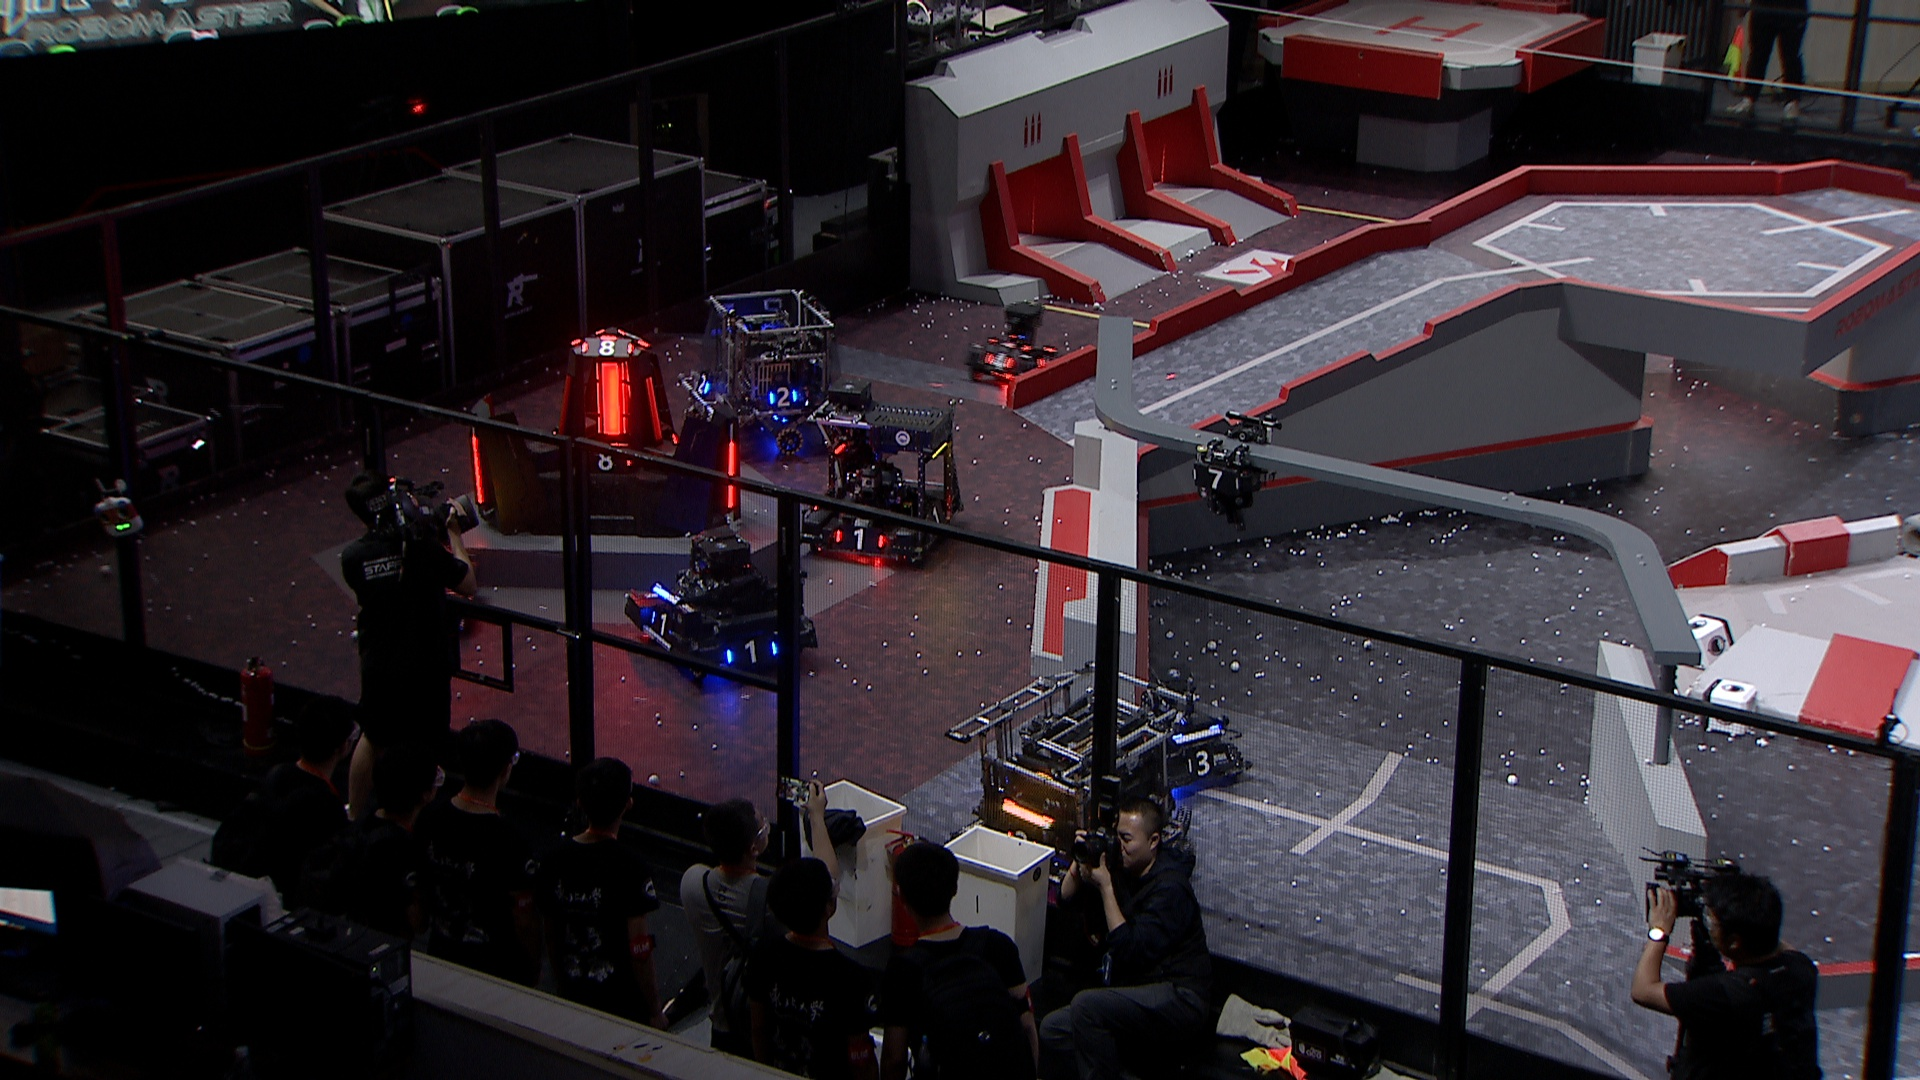armor: (593, 360, 629, 436), (724, 638, 779, 669), (641, 373, 665, 443), (1189, 467, 1244, 495), (723, 436, 741, 509), (833, 527, 885, 553), (468, 436, 487, 505), (585, 447, 636, 472), (579, 338, 636, 357), (556, 375, 572, 436), (1185, 749, 1218, 778), (646, 608, 674, 638), (767, 385, 800, 409), (920, 501, 951, 526), (981, 349, 1015, 371), (986, 338, 1031, 353), (694, 372, 713, 398)
base: (462, 324, 745, 538)
car: (935, 659, 1197, 897), (793, 373, 965, 566), (626, 526, 820, 680), (676, 287, 843, 458), (1109, 669, 1253, 793), (959, 297, 1063, 385)
watcher: (1185, 407, 1284, 535)
